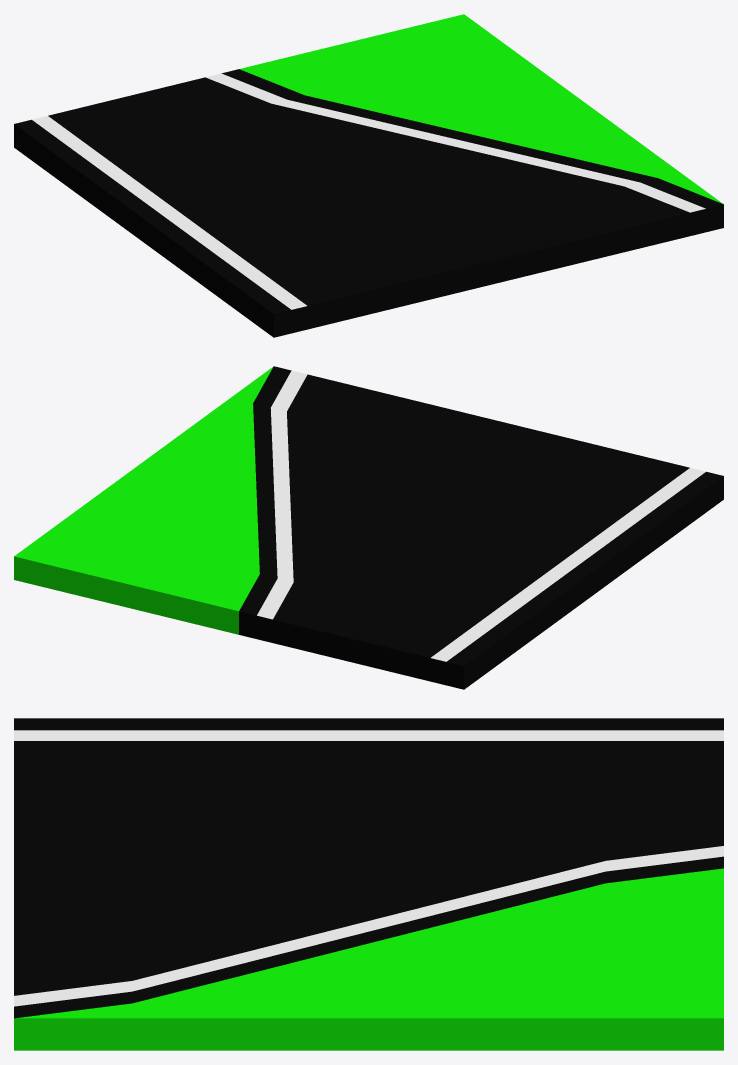
Rendered from bigtosmall2_mirror_export.fbx.
3 views of the same model, one above another, from view 1: azimuth 30°, elevation 25°; view 2: azimuth 150°, elevation 25°; view 3: azimuth 270°, elevation 25° (orthographic). The views are drawn at different scales.
Visible parts, largest first — view 1: Road, Grass; view 2: Road, Grass; view 3: Road, Grass.
Part boxes in pixels (x1=…): Road: x1=14, y1=69, x2=723, y2=337; Grass: x1=239, y1=14, x2=722, y2=203; Road: x1=239, y1=366, x2=723, y2=689; Grass: x1=14, y1=366, x2=273, y2=634; Road: x1=14, y1=718, x2=723, y2=1018; Grass: x1=14, y1=868, x2=723, y2=1050.
Size of what is drawn, in the model's own units: 20 by 1 by 20.
